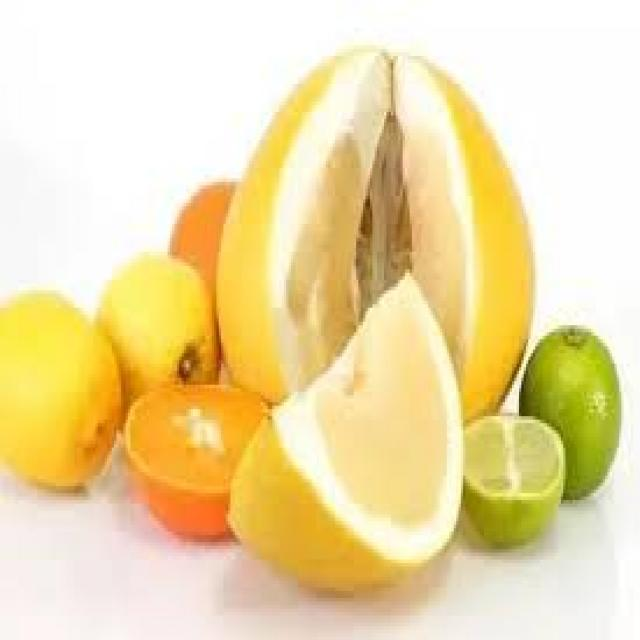organic waste: (214, 42, 533, 420), (221, 266, 463, 598), (119, 374, 270, 546), (0, 290, 126, 493), (93, 259, 221, 430), (517, 322, 619, 500), (461, 406, 561, 542), (168, 178, 235, 298)
